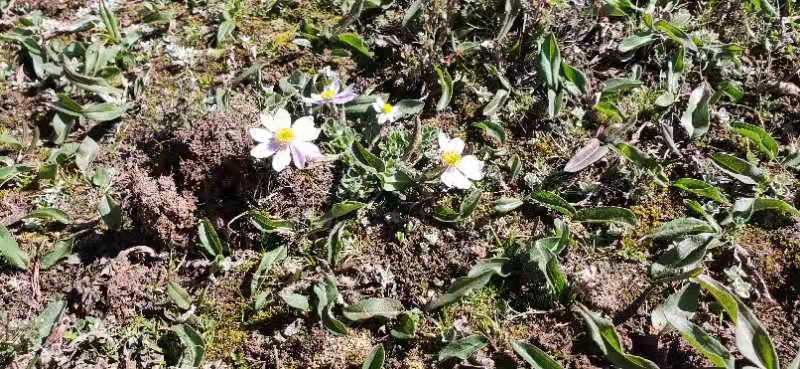Chongcao: (402, 116, 421, 159)
